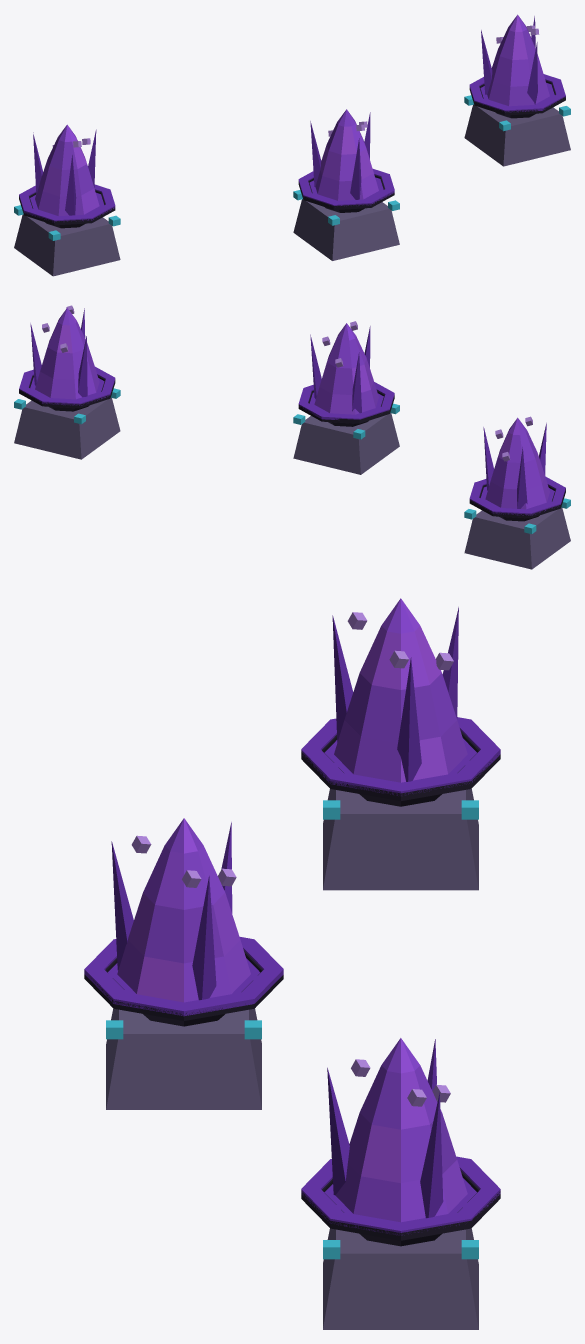
The model's file is Decor_VoidPortal_Braziers.fbx.
The picture shows the model from 3 angles, top to bottom: view 1: azimuth 30°, elevation 25°; view 2: azimuth 150°, elevation 25°; view 3: azimuth 270°, elevation 25°; orthographic projection. The views are drawn at different scales.
Visible parts, largest first — view 1: Braziers_Body; view 2: Braziers_Body; view 3: Braziers_Body.
Boxes of the visible parts, left/top/right/bottom form: Braziers_Body: left=14, top=14, right=570, bottom=276; Braziers_Body: left=14, top=305, right=570, bottom=569; Braziers_Body: left=84, top=598, right=500, bottom=1329.
Bounding box in the file's own units: 28.6 × 6.6 × 9.6.
